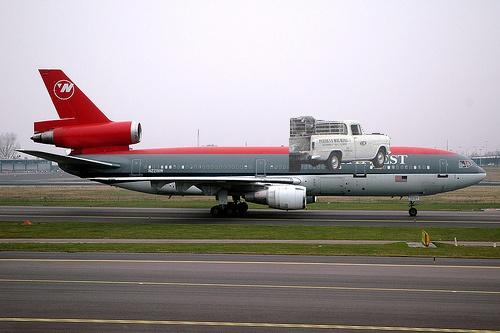tampered: (290, 117, 391, 172)
